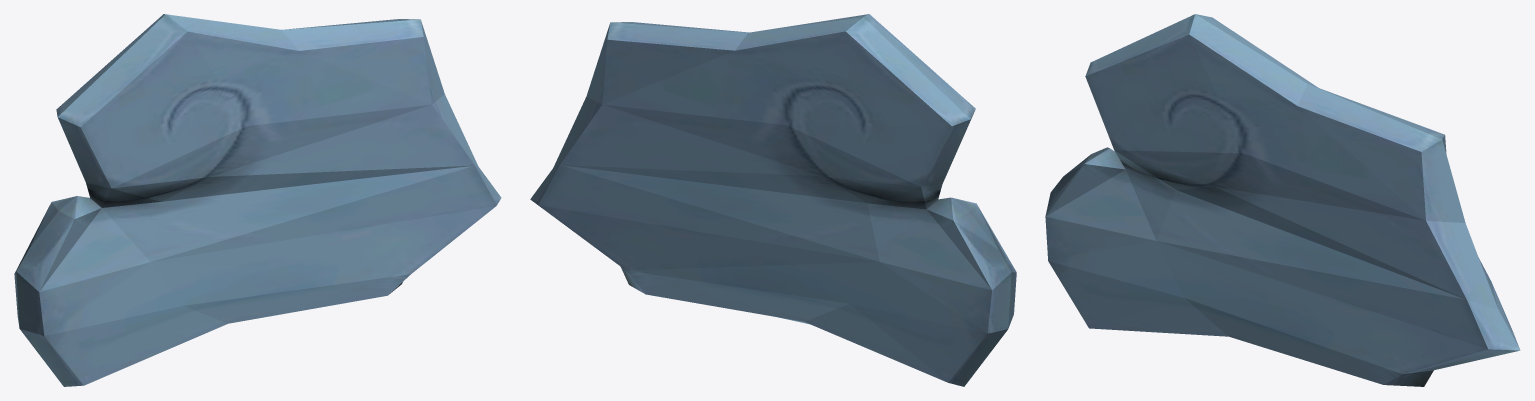
The model's file is frozen_wall.fbx.
3 renders of one model, left to right at view 1: azimuth 30°, elevation 25°; view 2: azimuth 150°, elevation 25°; view 3: azimuth 330°, elevation 25°, orthographic. The views are drawn at different scales.
Visible parts, largest first — view 1: node_id31; view 2: node_id31; view 3: node_id31.
Part boxes in pixels (box(x1,y1,x2,y2)): node_id31: box(14, 14, 501, 386); node_id31: box(530, 14, 1016, 386); node_id31: box(1045, 14, 1520, 386).
Size of the model in its own units: 0.6671 by 0.457 by 0.0663.
Materials: 1 (1 with a texture image).
